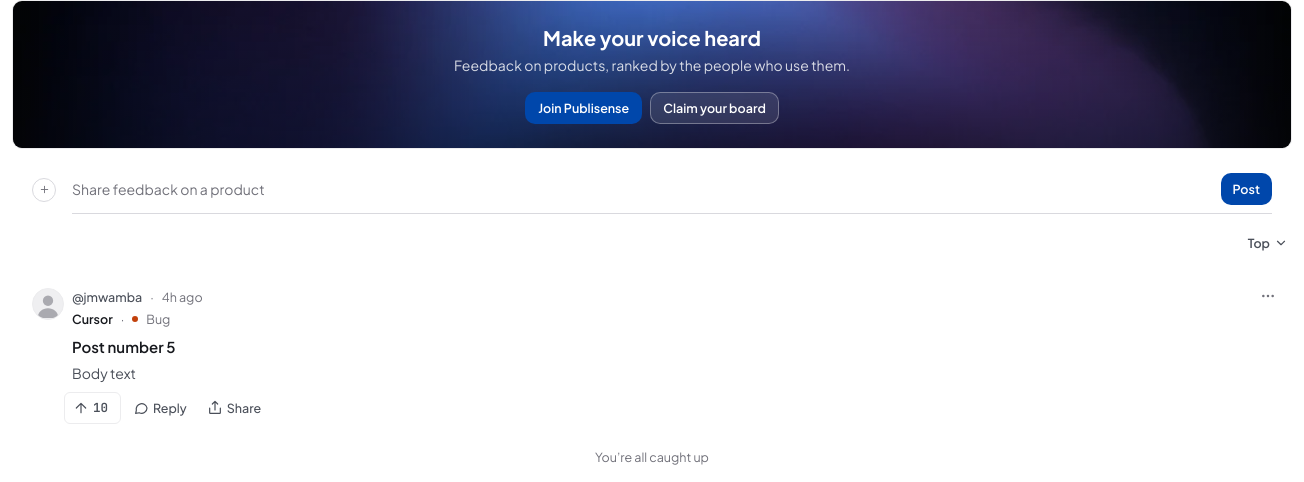
Test: home feed › sorts by New from the sort menu
The width and height of the screenshot is (1304, 482).
Expected: the list named "Posts" is shown, [12, 272, 1292, 440]
Click the button with aria-label "Sort feed: Top".
click(1266, 243)  # box [1240, 230, 1292, 256]
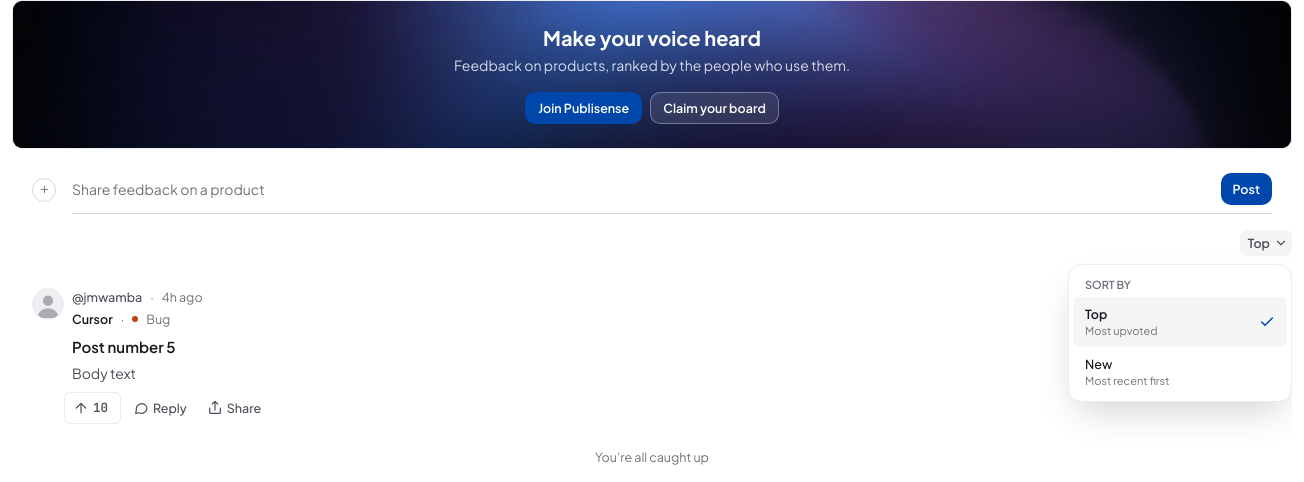
Click the menu item "New Most recent first".
click(1180, 372)  # box [1073, 347, 1287, 397]
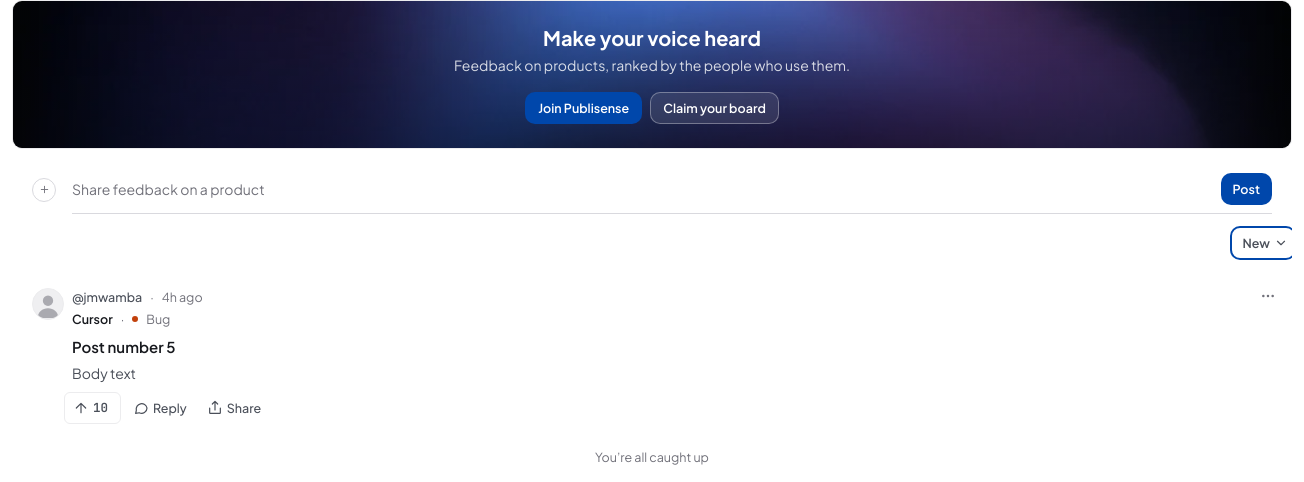
Expected: the button with aria-label "Sort feed: New" is shown, [1234, 230, 1292, 256]
